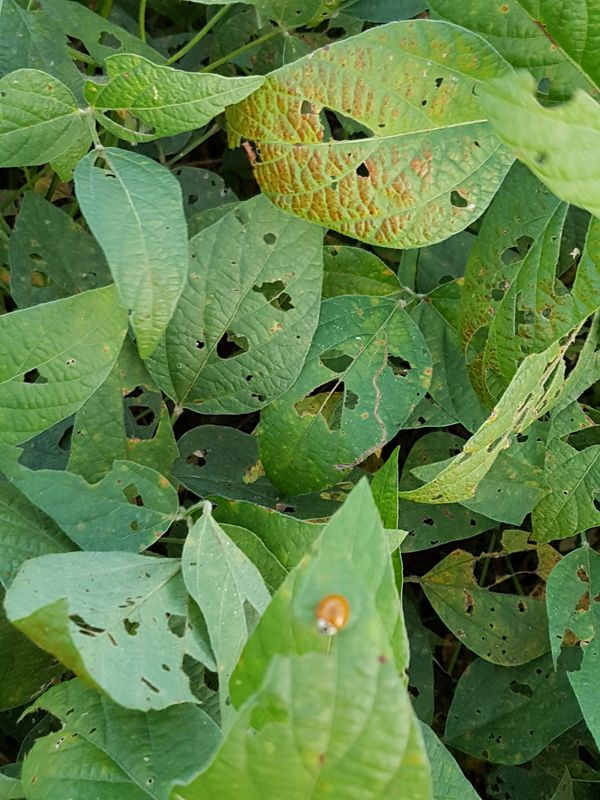Coccinellidae: (304, 587, 356, 645)
